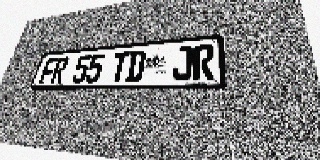5: (71, 55, 92, 83), (85, 54, 105, 83)
D: (125, 50, 146, 82)
F: (38, 58, 58, 84)
J: (172, 46, 193, 81)
R: (192, 44, 214, 80), (50, 57, 70, 84)
T: (109, 51, 130, 82)
